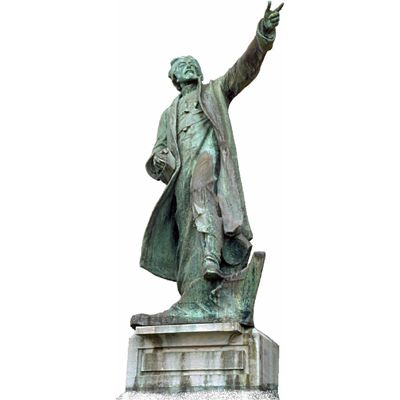person-like: (136, 1, 287, 293)
